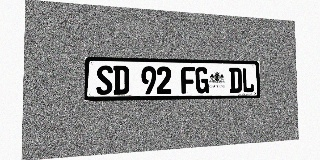2: (157, 66, 171, 94)
9: (141, 66, 156, 94)
D: (113, 66, 129, 95), (229, 67, 242, 93)
F: (181, 67, 195, 94)
G: (195, 67, 209, 93)
L: (242, 68, 254, 93)
S: (96, 65, 113, 95)
